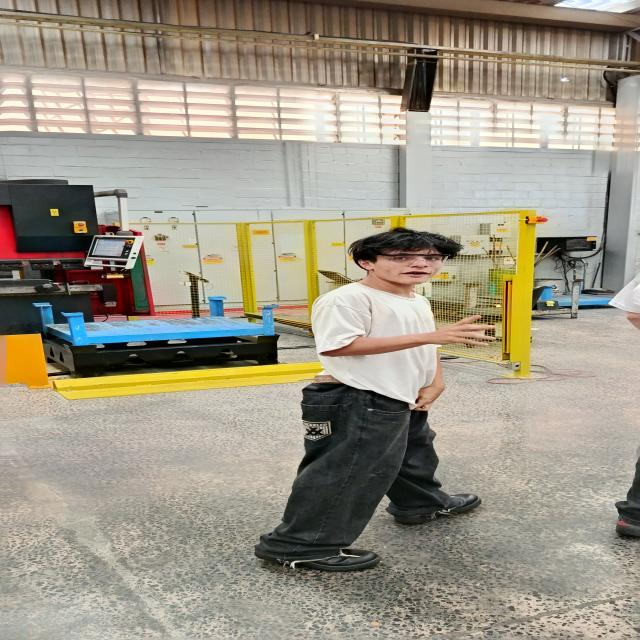oculos-epi: (365, 252, 450, 266)
